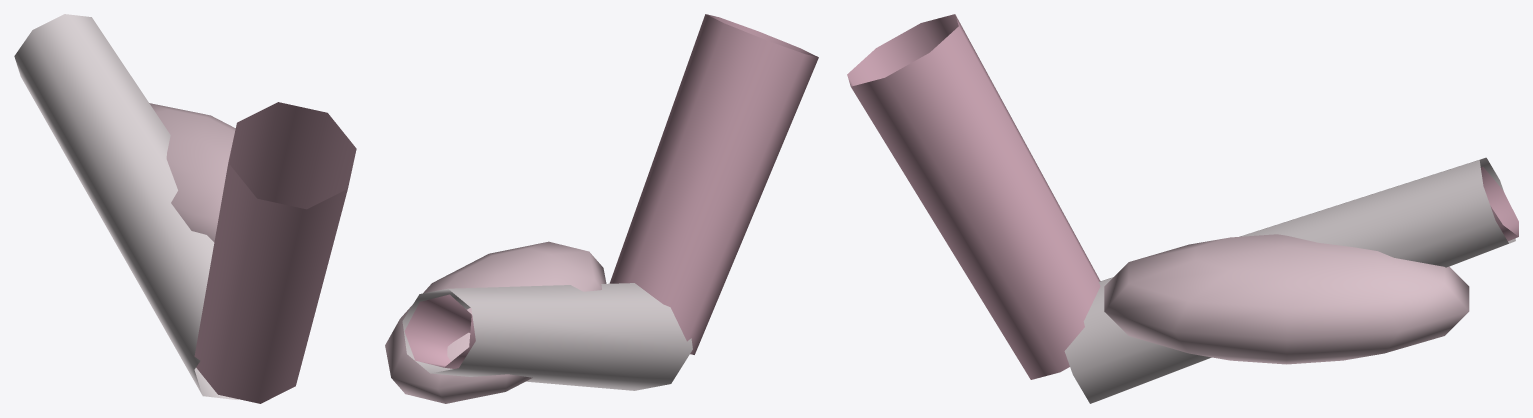
Rendered from Hanakamakiri_Arm.fbx.
3 views of the same model, side by side, from view 1: azimuth 30°, elevation 25°; view 2: azimuth 150°, elevation 25°; view 3: azimuth 270°, elevation 25° (orthographic). The views are drawn at different scales.
Visible parts, largest first — view 1: Hanakamakiri_Arm; view 2: Hanakamakiri_Arm; view 3: Hanakamakiri_Arm.
Part boxes in pixels (x1,y1,x2,y2): Hanakamakiri_Arm: (14,14,356,403); Hanakamakiri_Arm: (385,14,818,403); Hanakamakiri_Arm: (847,14,1518,403).
Size of the model in its own units: 0.1437 by 0.2073 by 0.3501.
